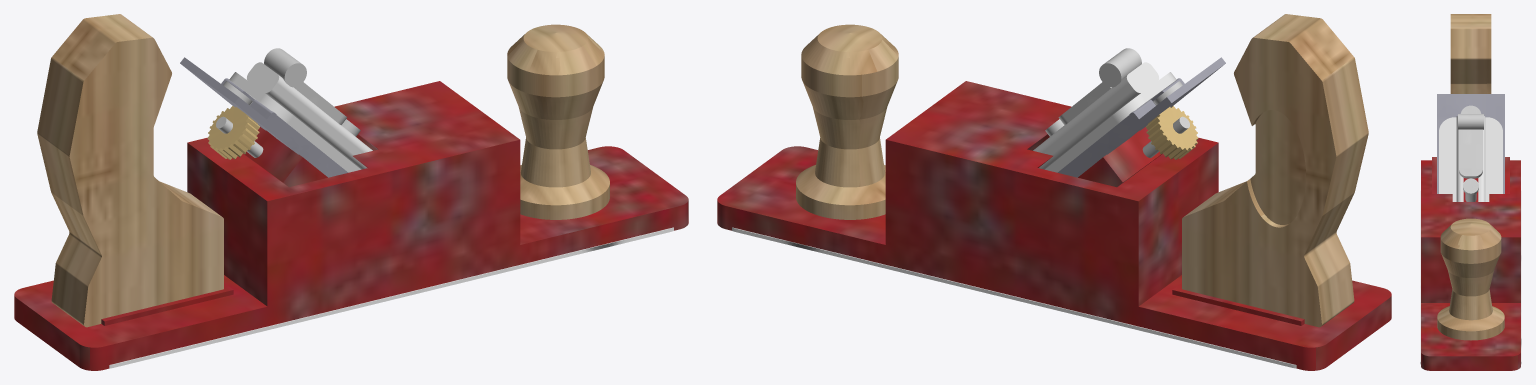
Rendered from Handtools_Hand_plane__0000.glb.
3 renders of one model, left to right at view 1: azimuth 30°, elevation 25°; view 2: azimuth 150°, elevation 25°; view 3: azimuth 270°, elevation 25°, orthographic. The views are drawn at different scales.
Parts seen in each view (by area): view 1: plane_body::casting, rear_tote::tote, front_knob::knob, lever_cap::cap, cutting_iron::iron, plane_body::sole_edge, plane_body::frog, depth_wheel::wheel, cam_lever::cam; view 2: plane_body::casting, rear_tote::tote, front_knob::knob, lever_cap::cap, cutting_iron::iron, plane_body::sole_edge, plane_body::frog, depth_wheel::wheel, cam_lever::cam; view 3: plane_body::casting, front_knob::knob, rear_tote::tote, lever_cap::cap, cutting_iron::iron, cam_lever::cam, plane_body::frog, plane_body::sole_edge, plane_body::cap_screw, lateral_lever::lever.
Part boxes in pixels (x1,y1,x2,y2): plane_body::casting: (14,81,688,370); rear_tote::tote: (37,14,223,327); front_knob::knob: (507,24,609,219); lever_cap::cap: (229,62,372,172); cutting_iron::iron: (180,57,348,177); plane_body::sole_edge: (109,227,673,368); plane_body::frog: (243,127,327,187); depth_wheel::wheel: (207,106,259,159); cam_lever::cam: (264,48,347,124); plane_body::casting: (717,81,1391,370); rear_tote::tote: (1182,14,1368,327); front_knob::knob: (796,24,898,219); lever_cap::cap: (1033,62,1176,172); cutting_iron::iron: (1057,57,1225,177); plane_body::sole_edge: (732,227,1296,368); plane_body::frog: (1078,127,1162,187); depth_wheel::wheel: (1146,106,1198,159); cam_lever::cam: (1058,48,1141,124); plane_body::casting: (1421,160,1520,370); front_knob::knob: (1437,218,1504,340); rear_tote::tote: (1450,14,1491,93); lever_cap::cap: (1439,116,1502,201); cutting_iron::iron: (1437,94,1504,193); cam_lever::cam: (1458,114,1483,178); plane_body::frog: (1432,157,1509,201); plane_body::sole_edge: (1420,190,1521,364); plane_body::cap_screw: (1463,178,1478,201); lateral_lever::lever: (1460,105,1481,113).
Size of the model in its own units: 0.2725 by 0.1292 by 0.063.
7 materials, 6 textured.
